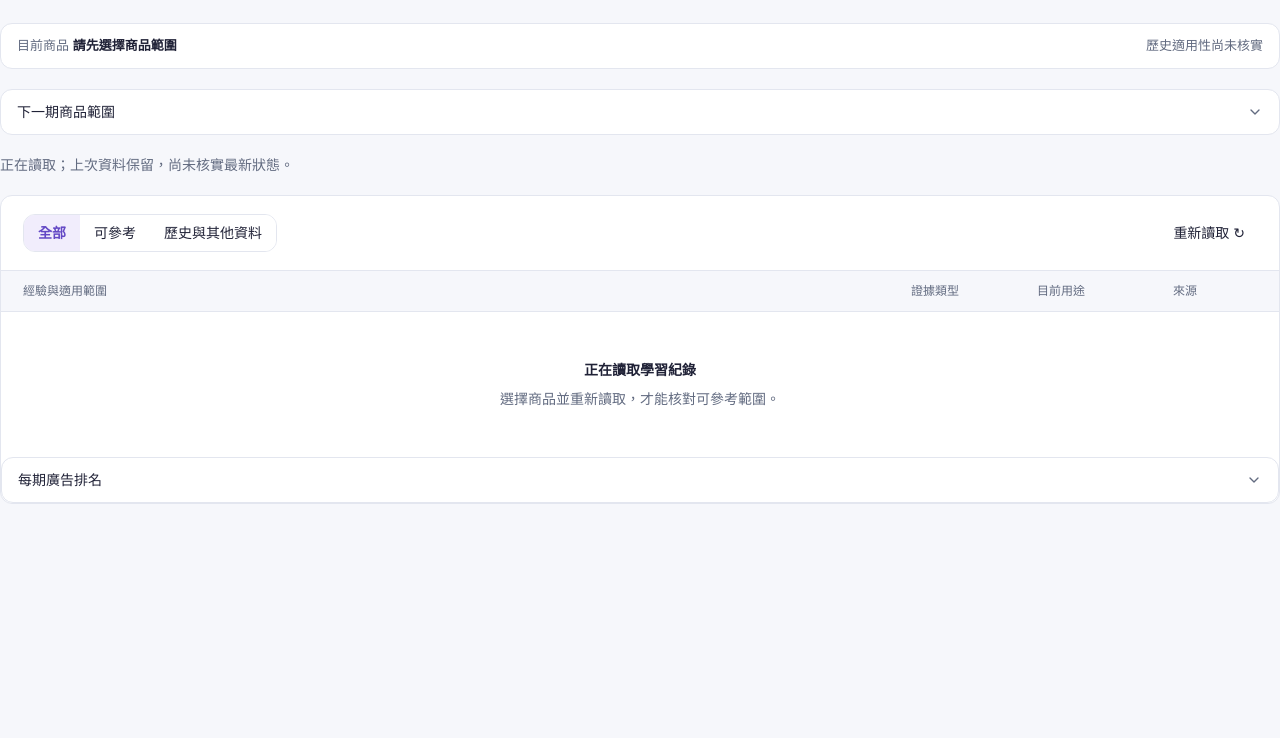
LearningsTab 投放學到的 › campaign header chips: closed MM/DD, cap, totals, 留下／換掉 counts and the rule text
Step 1. Click the button "每期廣告排名" → (60, 480), box [2,458,1278,502]
(page scrolled)
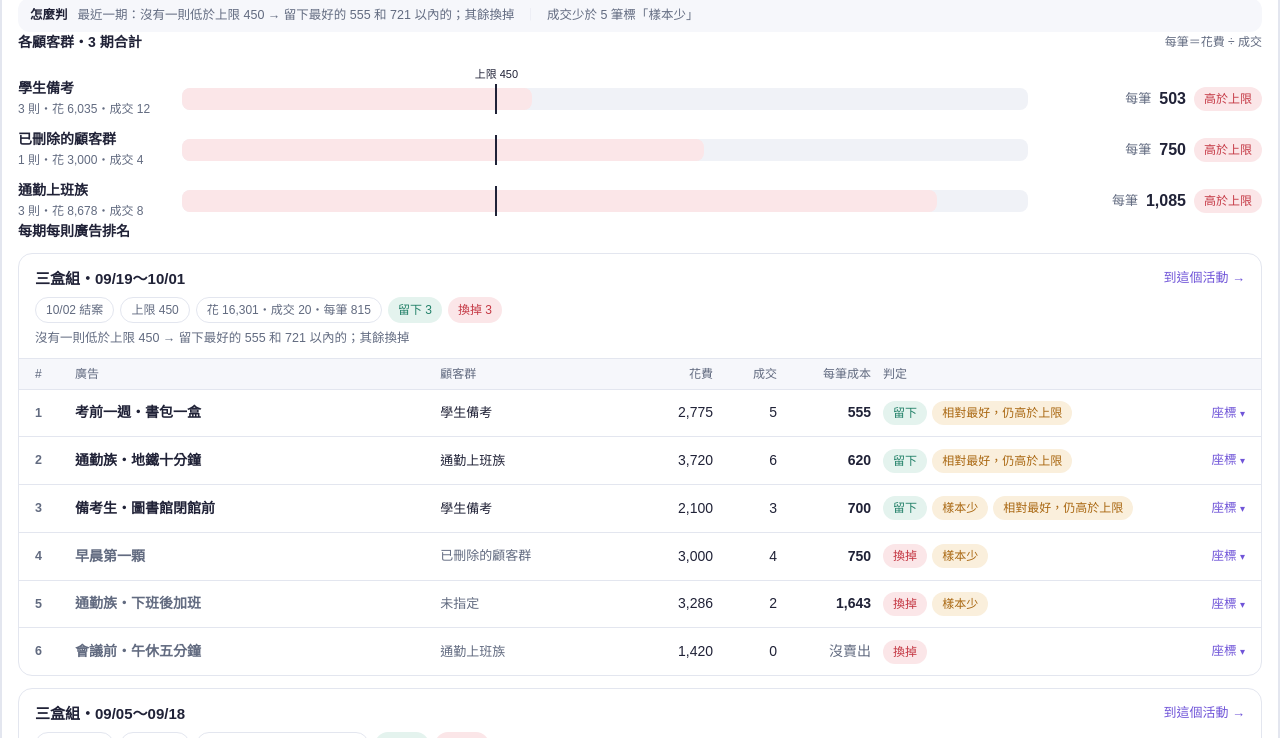
Now the text "10/02 結案" is shown, box [35,297,114,323]
Now the text "上限 450" in the row of "16,301" is shown, box [120,297,190,323]
Now the text "花 16,301・成交 20・每筆 815" is shown, box [196,297,382,323]
